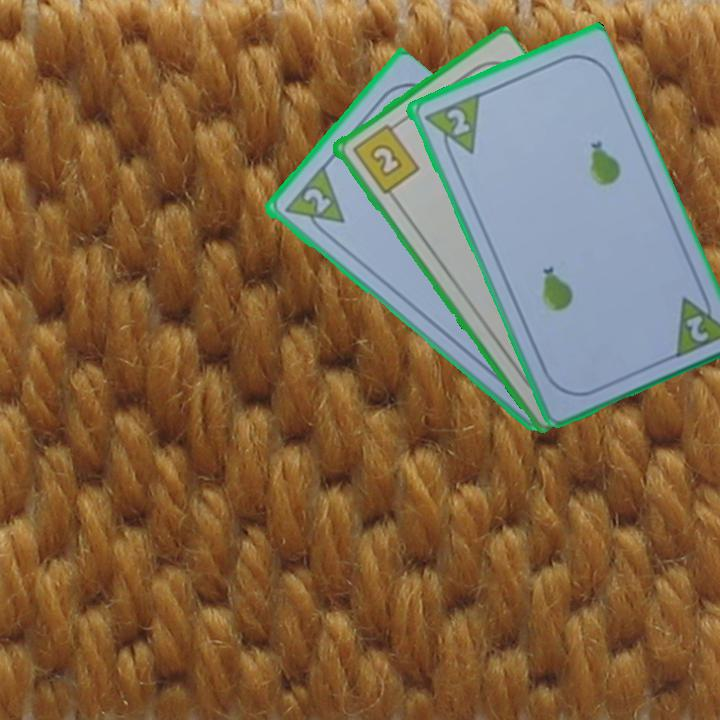2b: (348, 118, 422, 197)
2p: (279, 163, 348, 242), (419, 90, 482, 164), (681, 311, 711, 345)
